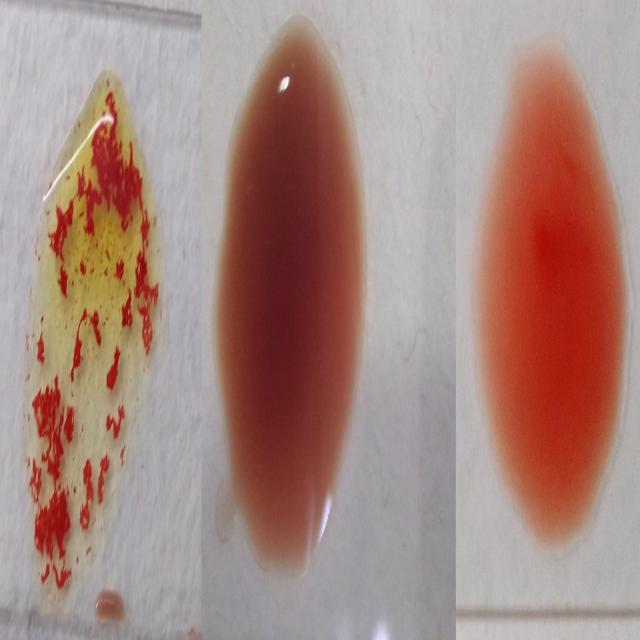B: (25, 53, 156, 610)
